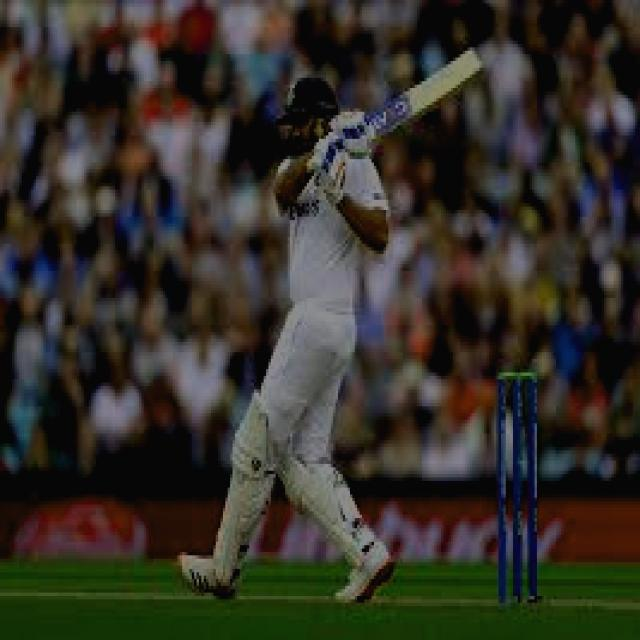toe: (460, 44, 484, 82)
